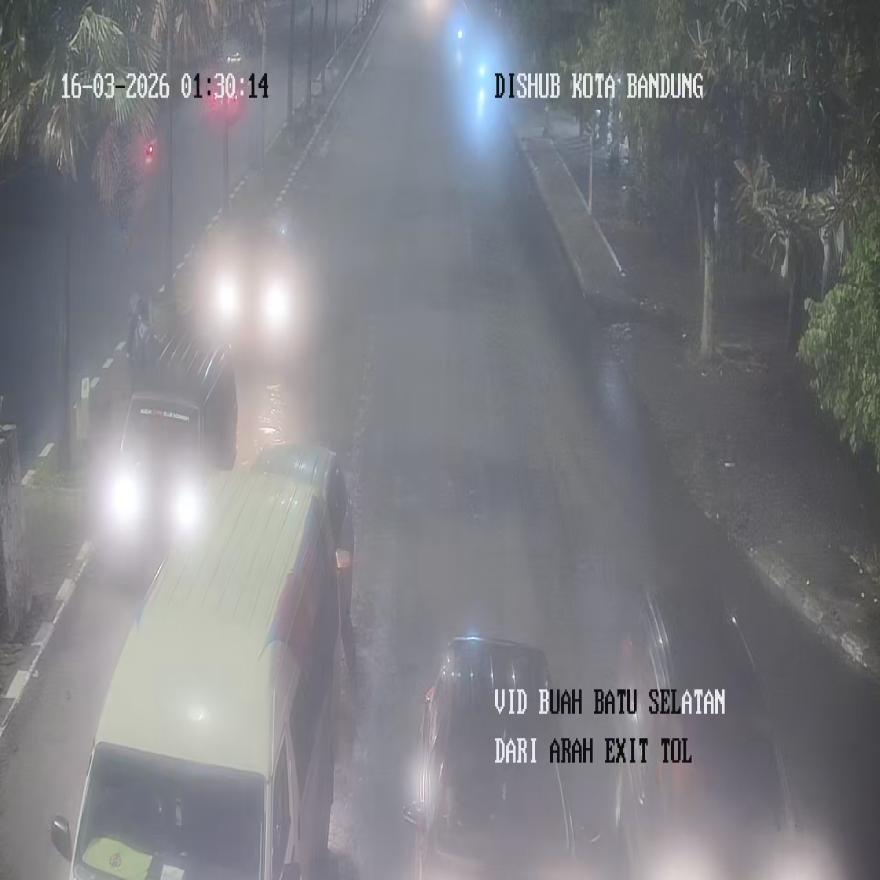Bis: (49, 454, 346, 878)
Motor: (612, 580, 819, 877), (402, 636, 596, 878), (99, 322, 238, 574)
